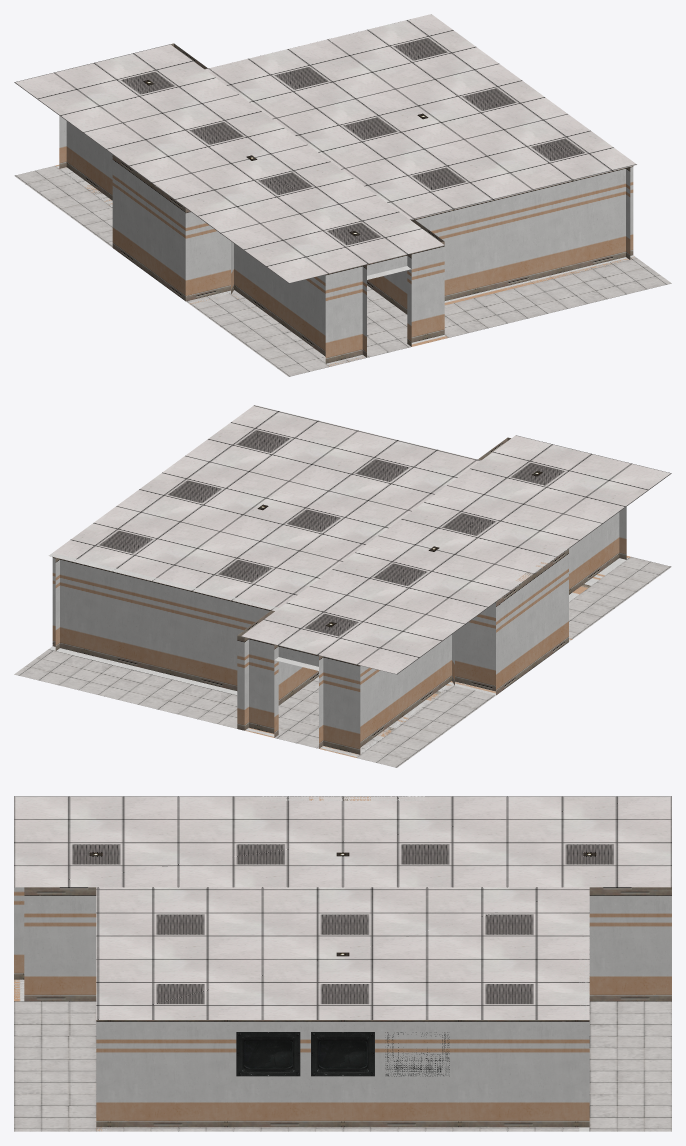
The model's file is RZ_room2_conf.gltf.
The picture shows the model from 3 angles, top to bottom: view 1: azimuth 30°, elevation 25°; view 2: azimuth 150°, elevation 25°; view 3: azimuth 270°, elevation 25°; orthographic projection. The views are drawn at different scales.
Parts seen in each view (by area): view 1: RZ_room2_conf; view 2: RZ_room2_conf; view 3: RZ_room2_conf.
Part boxes in pixels (bbox=[...]): RZ_room2_conf: bbox=[14, 14, 671, 376]; RZ_room2_conf: bbox=[14, 405, 671, 767]; RZ_room2_conf: bbox=[14, 796, 671, 1131].
Bounding box in the file's own units: 16.48 × 3.86 × 20.48.
12 materials, 11 textured.
